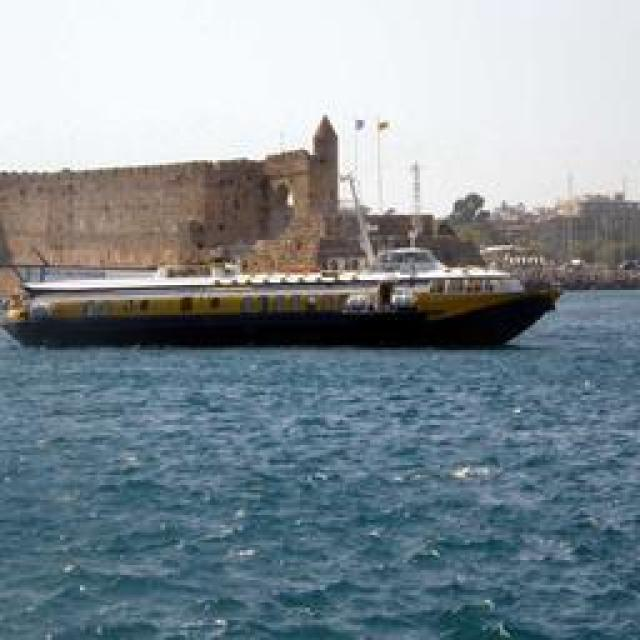Ship: (20, 259, 555, 352)
